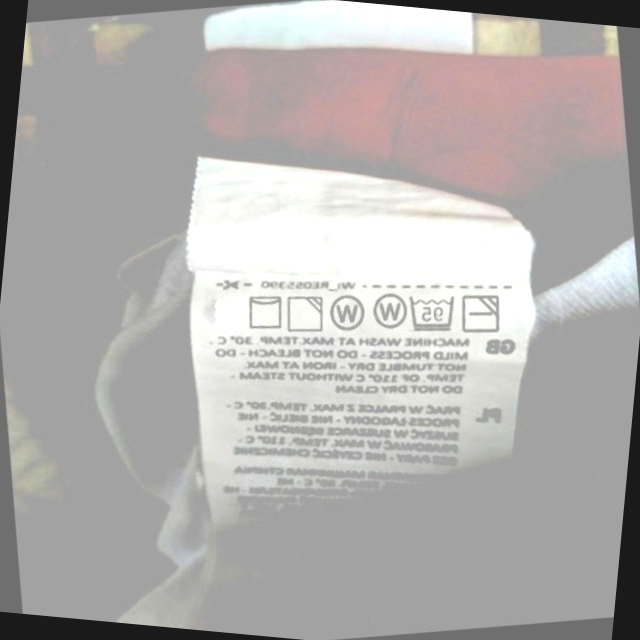95C: (401, 285, 463, 340)
dry_flat_in_shade: (454, 285, 508, 341)
line_dry: (238, 285, 291, 337)
shade_dry: (279, 287, 331, 340)
wet_clean: (322, 287, 372, 339), (364, 283, 413, 336)
